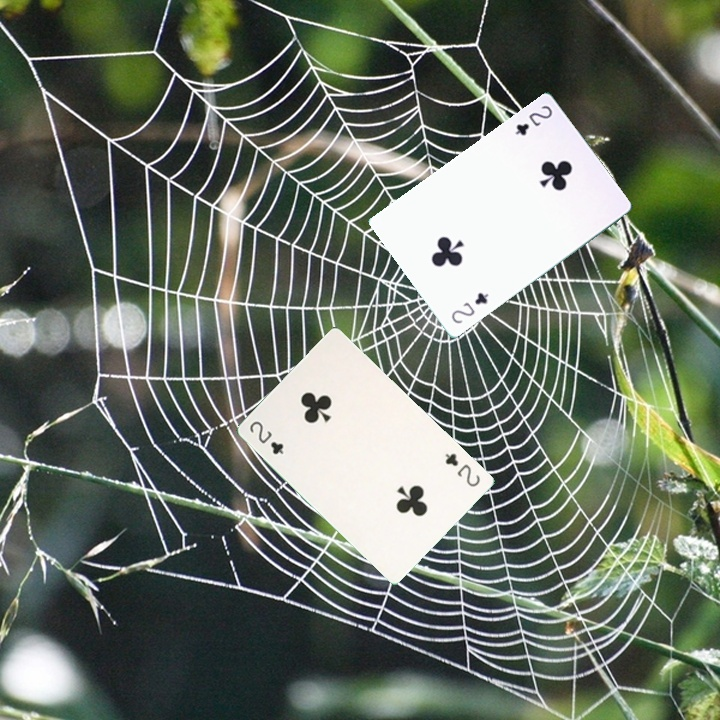2c: (441, 449, 483, 490), (447, 288, 491, 326), (511, 101, 555, 138), (246, 417, 286, 457)
